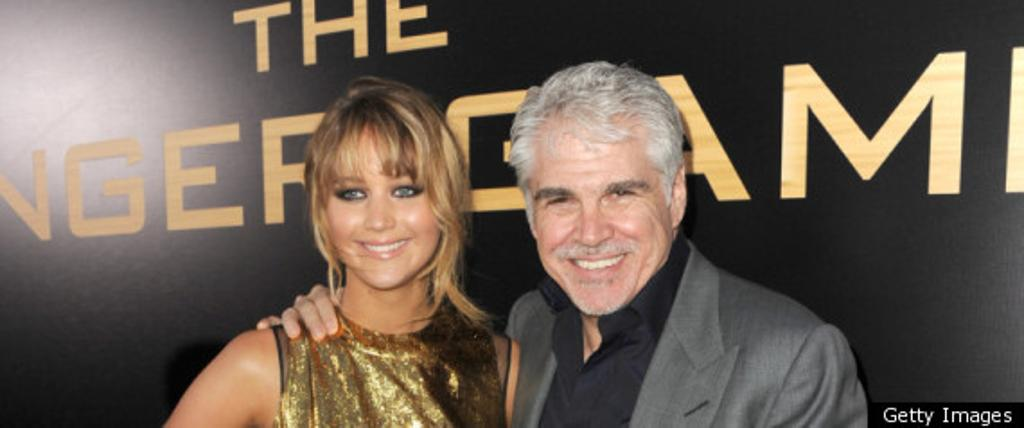face: (532, 114, 670, 316), (330, 120, 442, 288)
